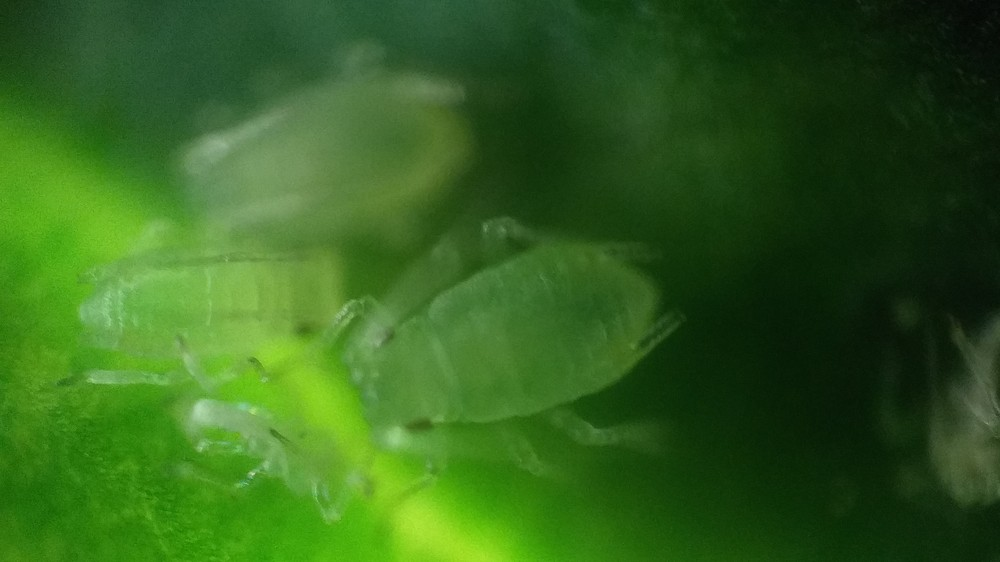Pulgon: (332, 209, 726, 493), (62, 207, 367, 407)
